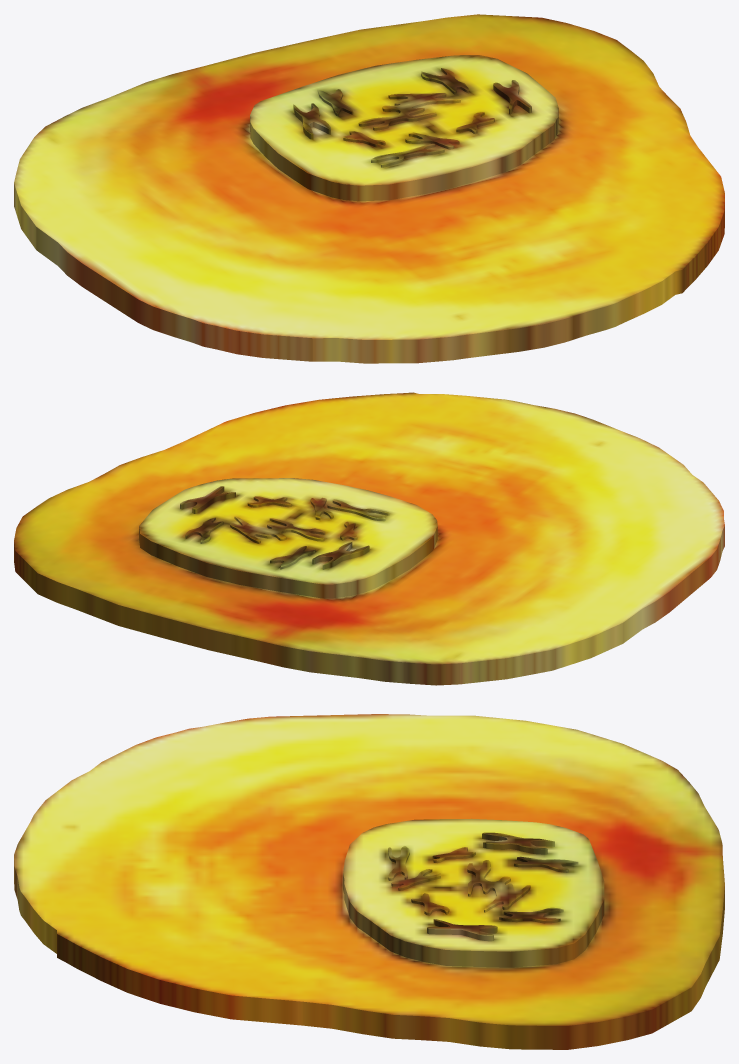
File: mural medicina central 4.dae
3 views of the same model, one above another, from view 1: azimuth 30°, elevation 25°; view 2: azimuth 150°, elevation 25°; view 3: azimuth 270°, elevation 25° (orthographic). The views are drawn at different scales.
Parts seen in each view (by area): view 1: SketchUp (×6); view 2: SketchUp (×6); view 3: SketchUp (×7).
Part boxes in pixels (x1=…): SketchUp (×6): x1=14, y1=14, x2=724, y2=363; SketchUp (×6): x1=14, y1=392, x2=724, y2=685; SketchUp (×7): x1=14, y1=714, x2=724, y2=1049.
Bounding box in the file's own units: 15.74 × 15.16 × 1.06.
1 material, 1 textured.
